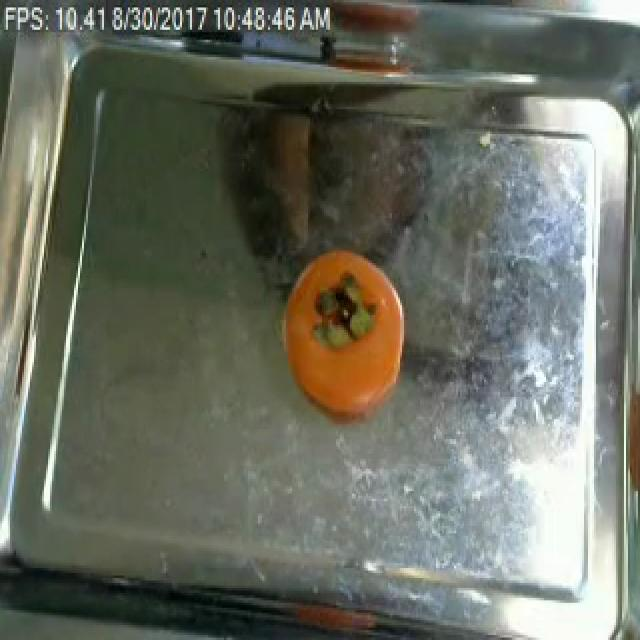Fruit: (270, 240, 416, 447), (222, 97, 320, 270)
